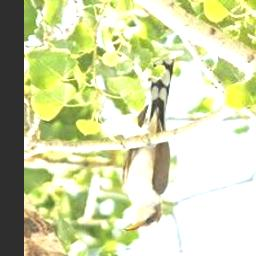Cuckoo: (121, 55, 175, 231)
